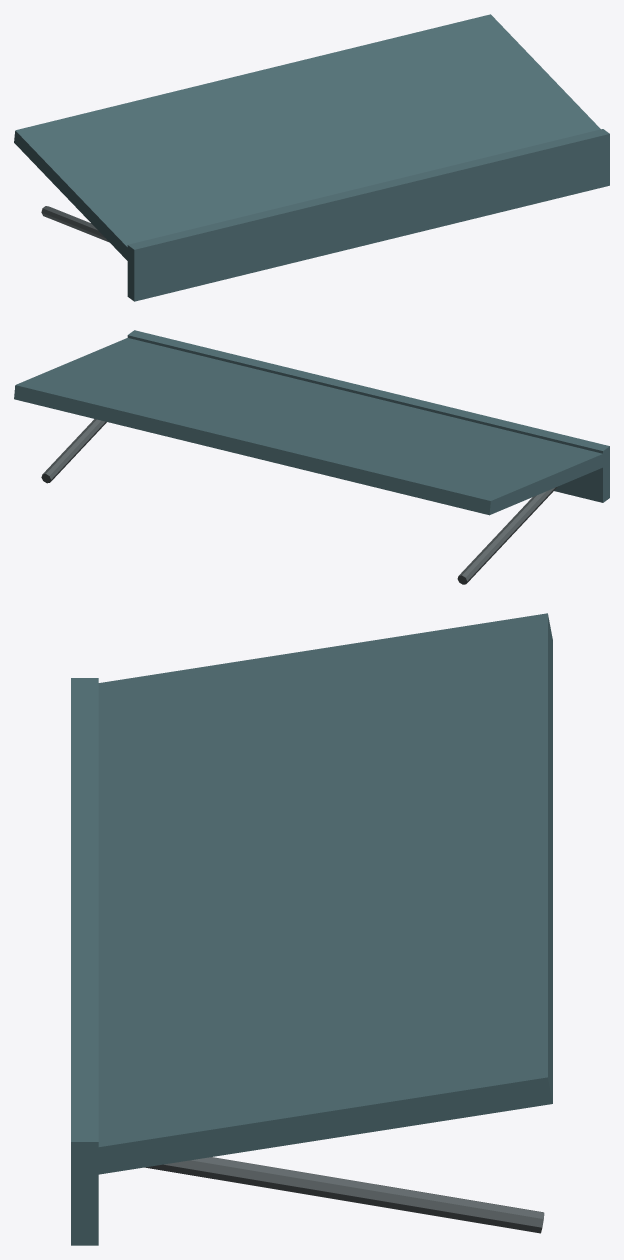
The model's file is facade-canopy.glb.
The picture shows the model from 3 angles, top to bottom: view 1: azimuth 30°, elevation 25°; view 2: azimuth 150°, elevation 25°; view 3: azimuth 270°, elevation 25°; orthographic projection. The views are drawn at different scales.
Parts seen in each view (by area): view 1: facade-canopy; view 2: facade-canopy; view 3: facade-canopy.
Part boxes in pixels (<box>): facade-canopy: <box>14,14,609,301</box>; facade-canopy: <box>14,330,609,584</box>; facade-canopy: <box>71,613,552,1245</box>.
Bounding box in the file's own units: 2.4 × 0.4454 × 1.05.
